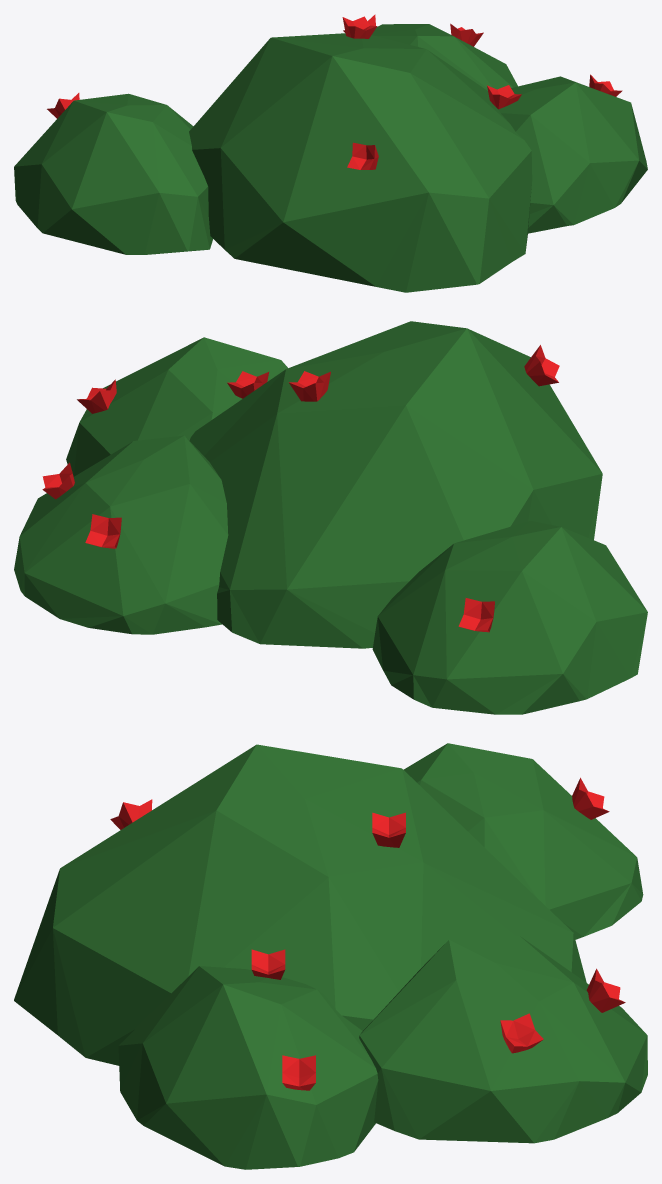
The model's file is bush2.dae.
3 renders of one model, top to bottom at view 1: azimuth 30°, elevation 25°; view 2: azimuth 150°, elevation 25°; view 3: azimuth 270°, elevation 25°, orthographic. The views are drawn at different scales.
Parts seen in each view (by area): view 1: Bush1.3; view 2: Bush1.3; view 3: Bush1.3.
Boxes of the visible parts, left/top/right/bottom form: Bush1.3: left=14, top=14, right=647, bottom=292; Bush1.3: left=14, top=321, right=647, bottom=714; Bush1.3: left=14, top=743, right=647, bottom=1169.
Size of the model in its own units: 3.51 by 2.81 by 1.16.
Materials: 1 (1 with a texture image).
